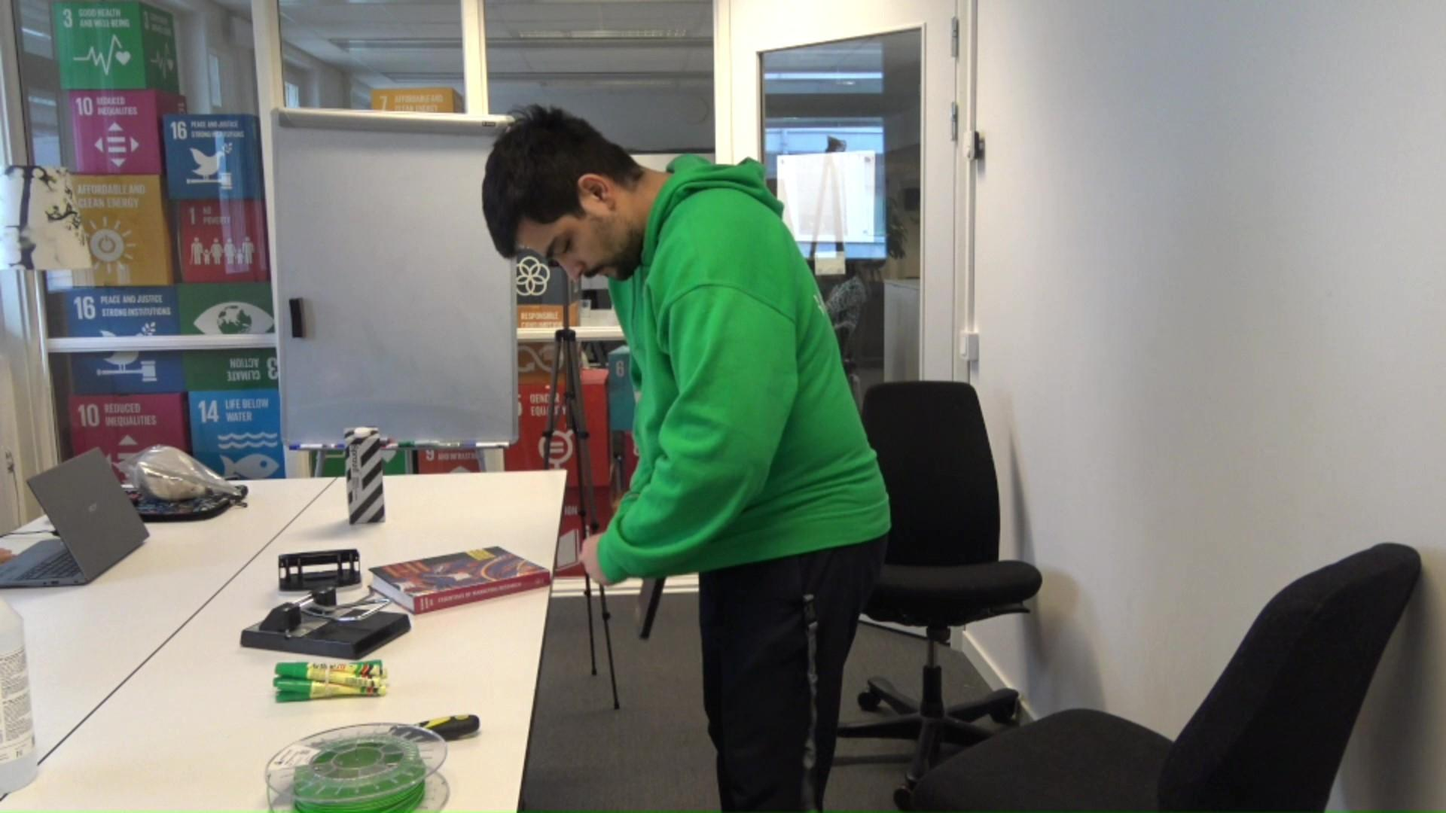shoplifting: (492, 108, 888, 813)
